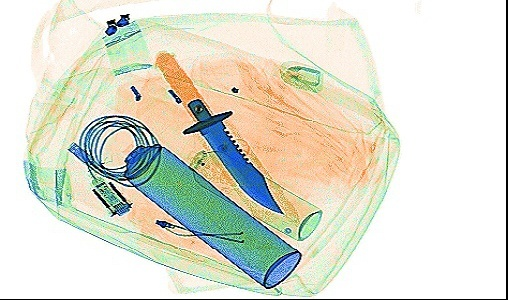knife: (152, 47, 283, 213)
pressure: (111, 128, 301, 288), (178, 142, 321, 240)
